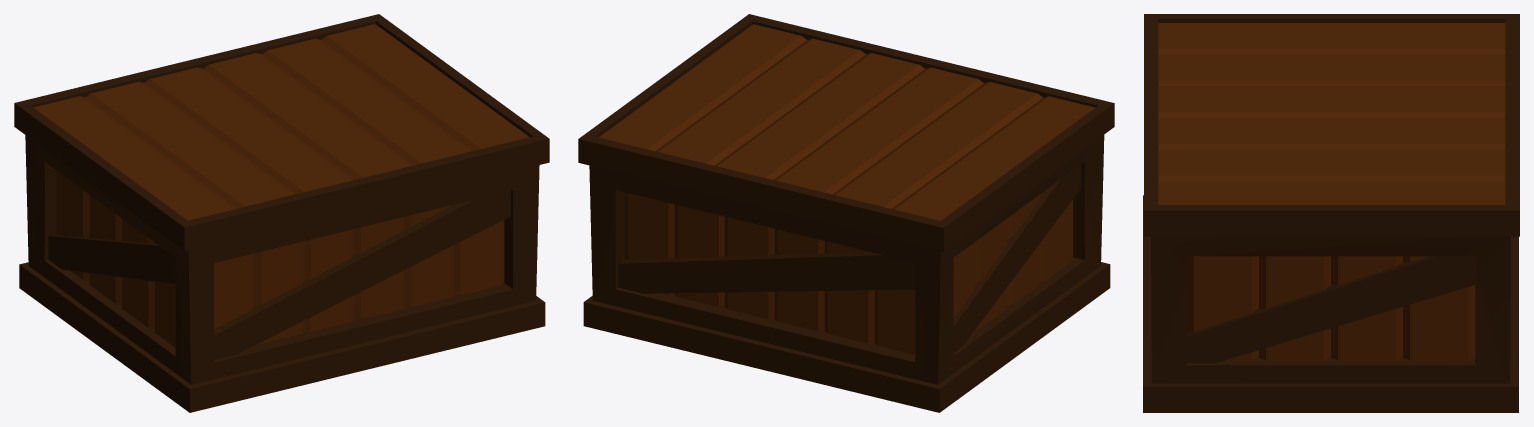
Rendered from Crate.fbx.
3 views of the same model, side by side, from view 1: azimuth 30°, elevation 25°; view 2: azimuth 150°, elevation 25°; view 3: azimuth 270°, elevation 25° (orthographic). The views are drawn at different scales.
Visible parts, largest first — view 1: SupplyCrate, Lid; view 2: SupplyCrate, Lid; view 3: Lid, SupplyCrate.
Boxes of the visible parts, bbox=[...] form: SupplyCrate: bbox=[19, 135, 545, 412]; Lid: bbox=[14, 14, 549, 251]; SupplyCrate: bbox=[583, 135, 1110, 412]; Lid: bbox=[578, 14, 1114, 251]; Lid: bbox=[1144, 14, 1519, 236]; SupplyCrate: bbox=[1143, 195, 1518, 412].
Bounding box in the file's own units: 63.44 × 30.91 × 51.45.
